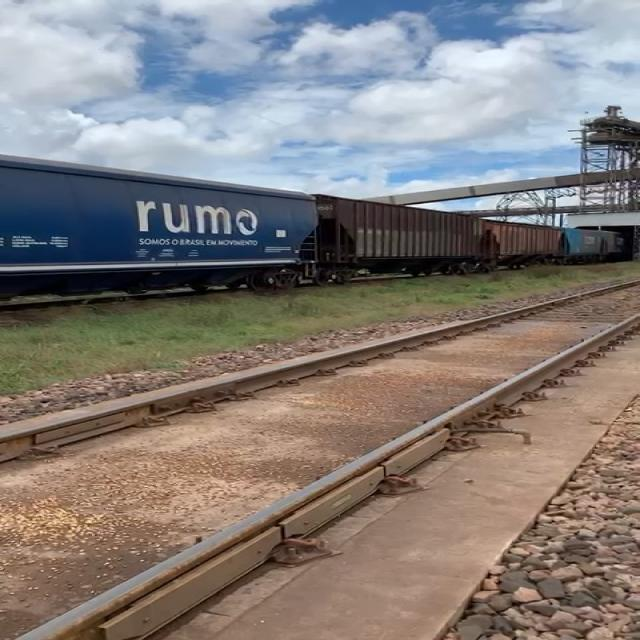hopper: (0, 149, 322, 300), (318, 184, 487, 282), (486, 212, 562, 270)
